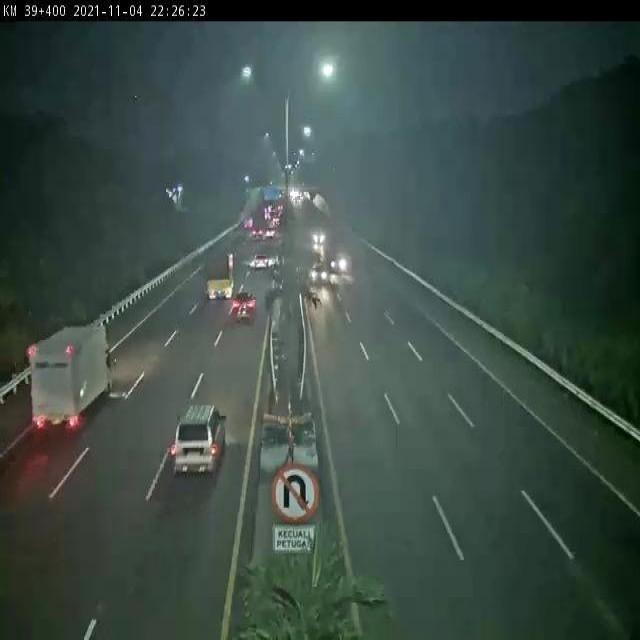car: (171, 404, 226, 479), (234, 292, 255, 320), (312, 261, 328, 284), (331, 250, 347, 270), (255, 253, 270, 271), (312, 225, 325, 243), (252, 225, 263, 238), (266, 225, 275, 236)
truck-m-: (30, 325, 113, 432), (208, 252, 234, 297)
